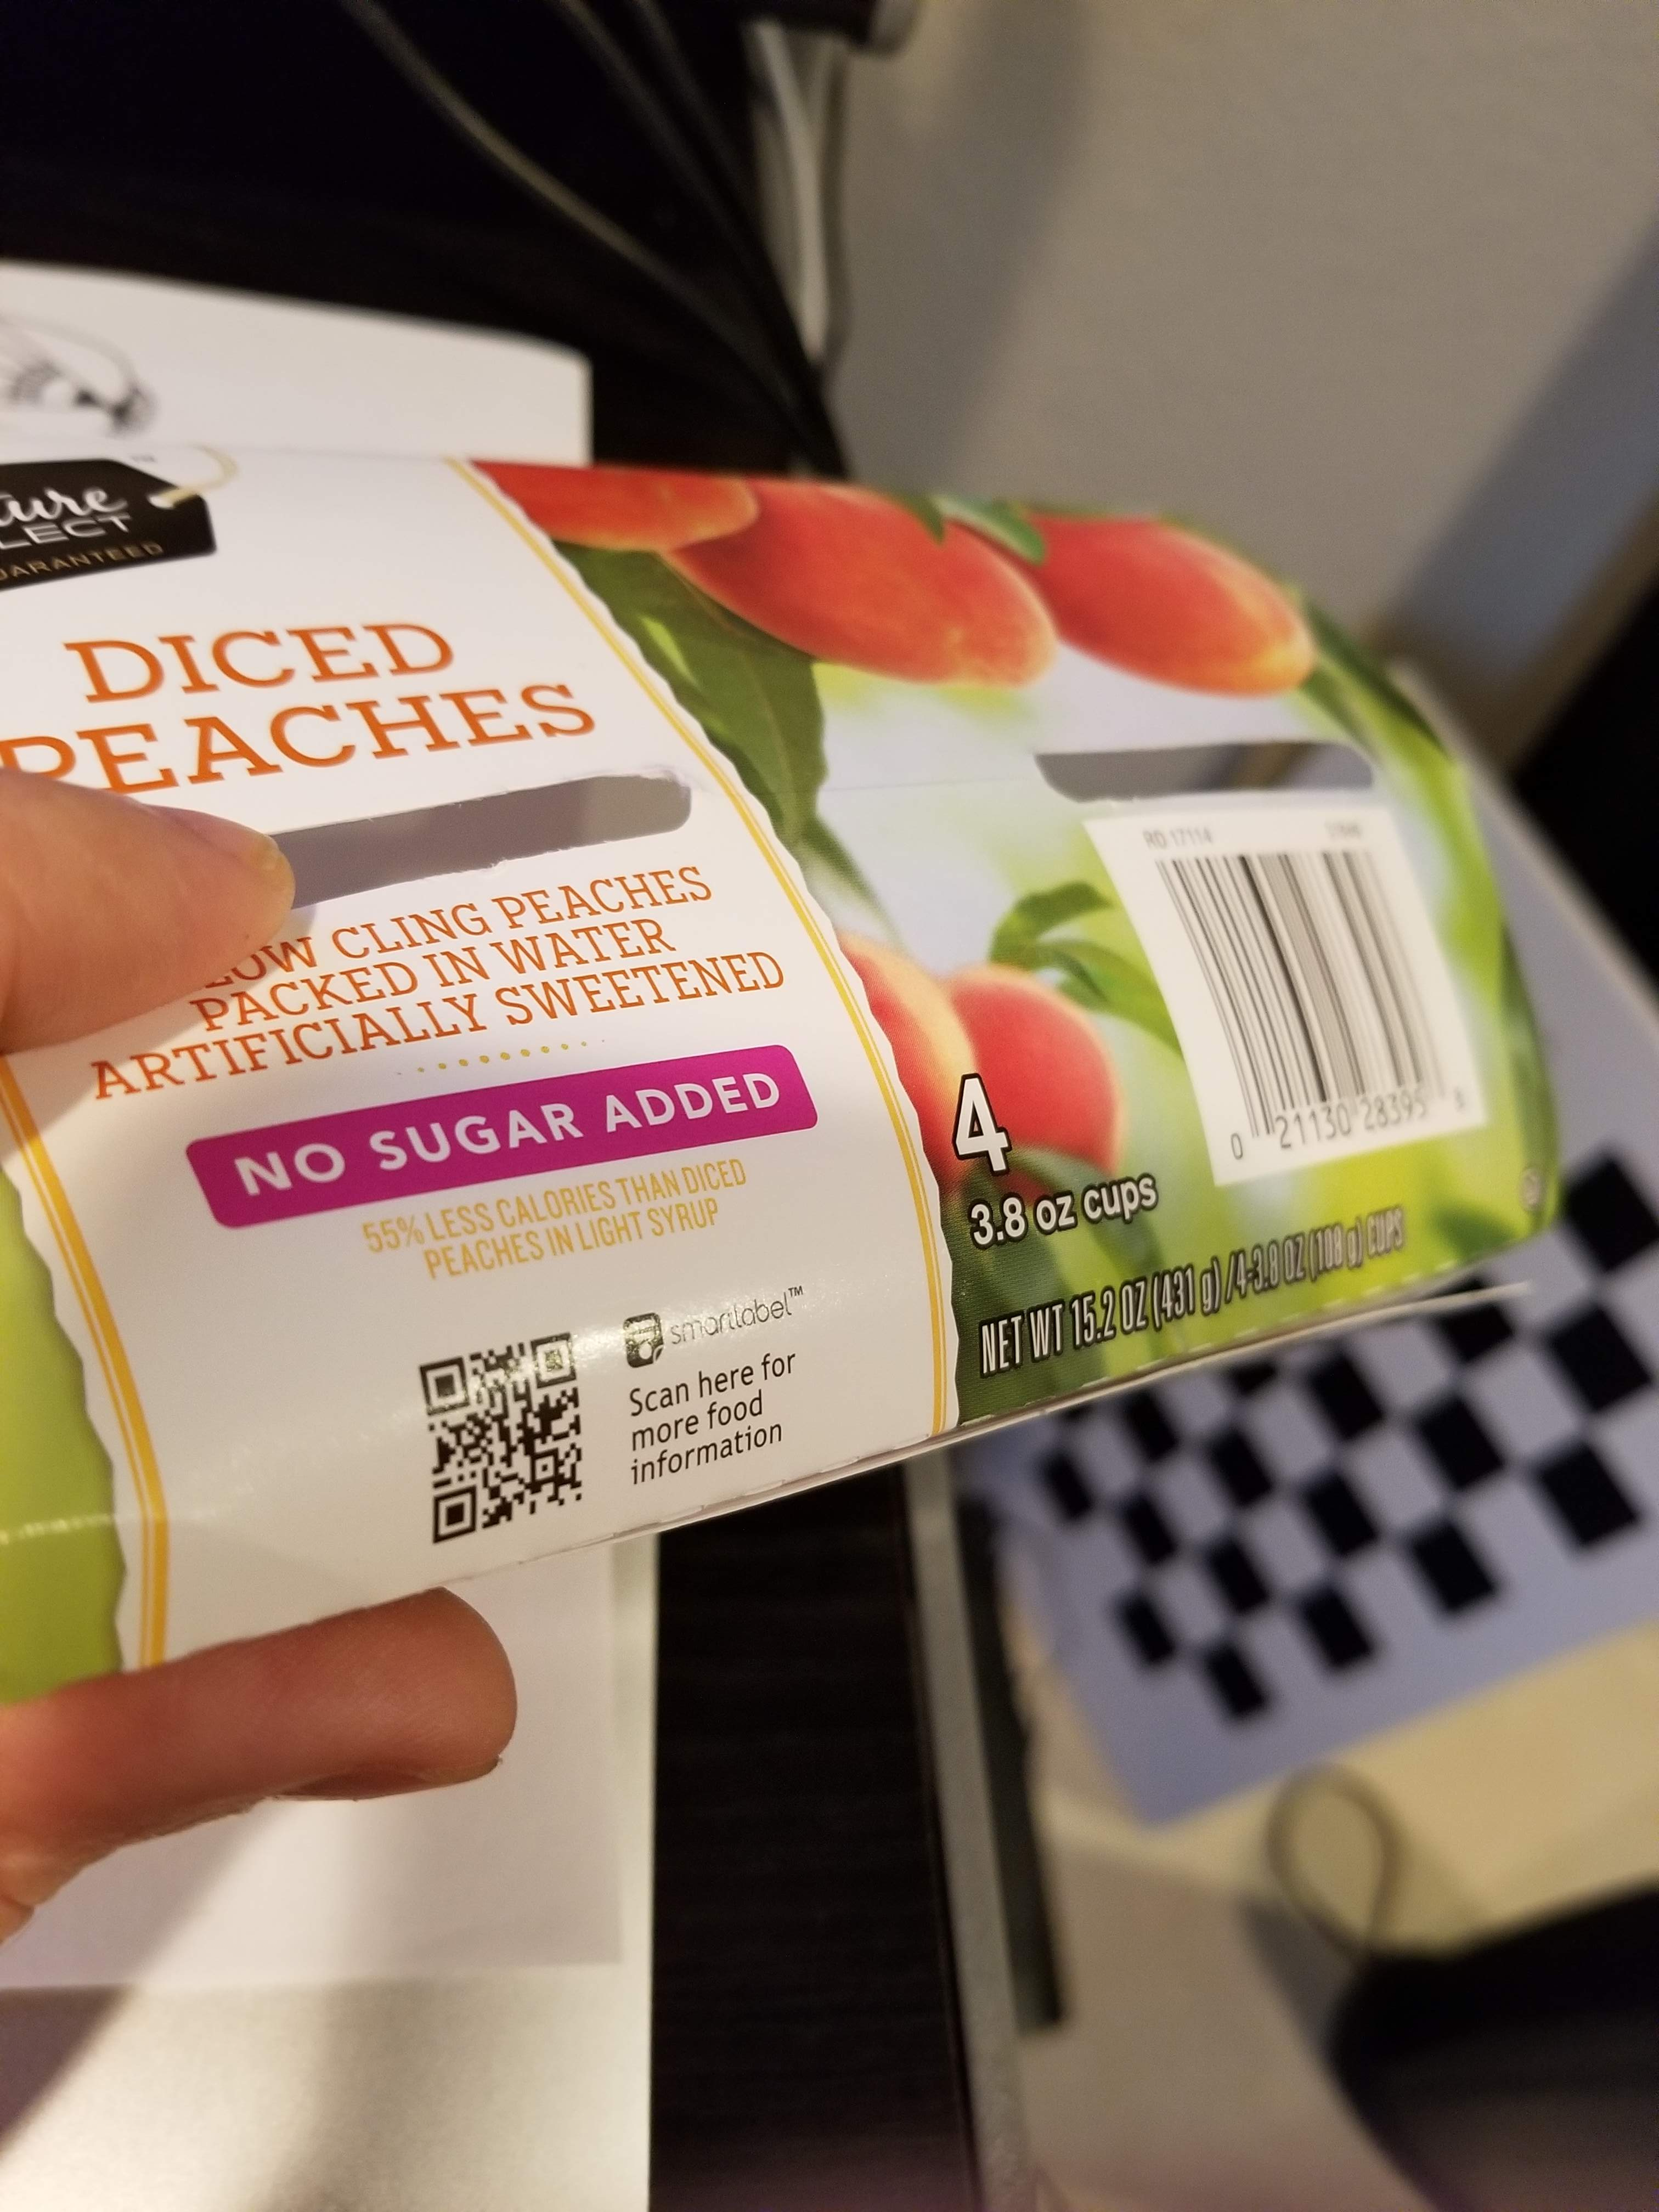QR_CODE: (389, 1298, 617, 1571)
